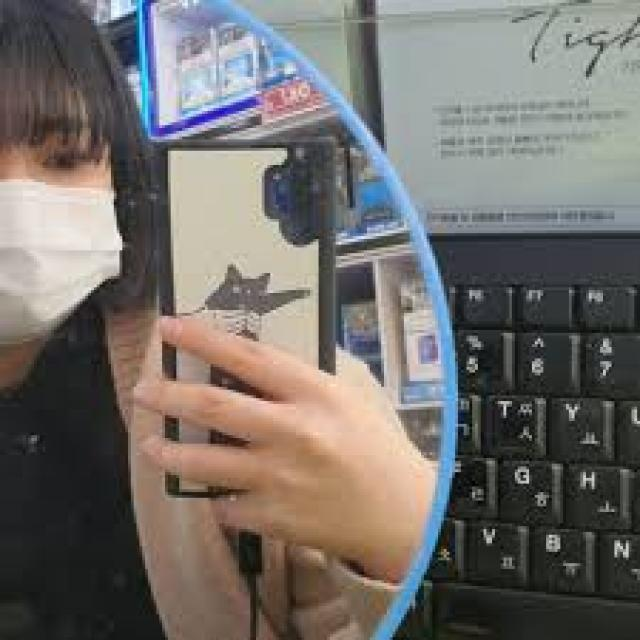Phone: (152, 138, 338, 501)
